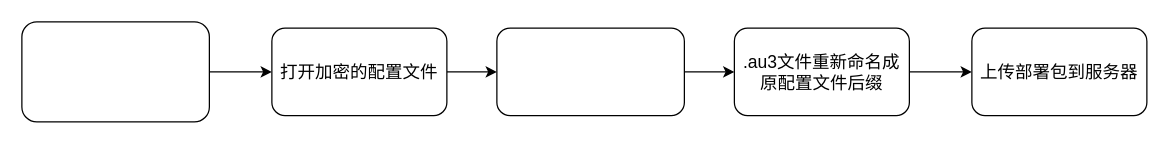
This 1169x144 diagram has some shape labels left out. The centre of each missing label's shape, as x and y in pixels:
Jenkins 调用执行机执 行maven 编译打包: the point at 115,71
拷贝配置文件内容到.au3文件: the point at 590,71
